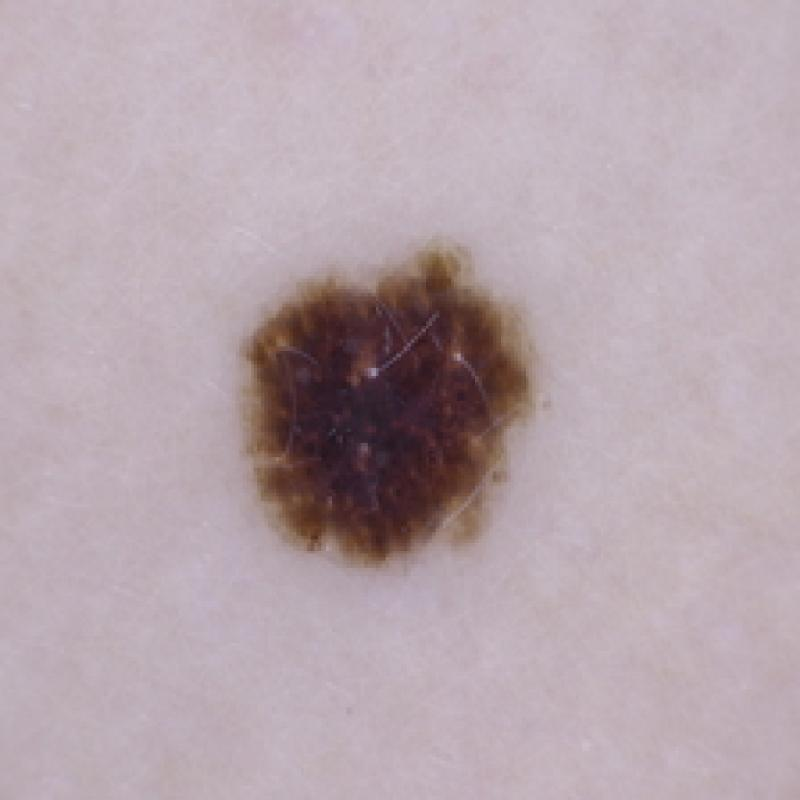benign: (227, 224, 550, 578)
